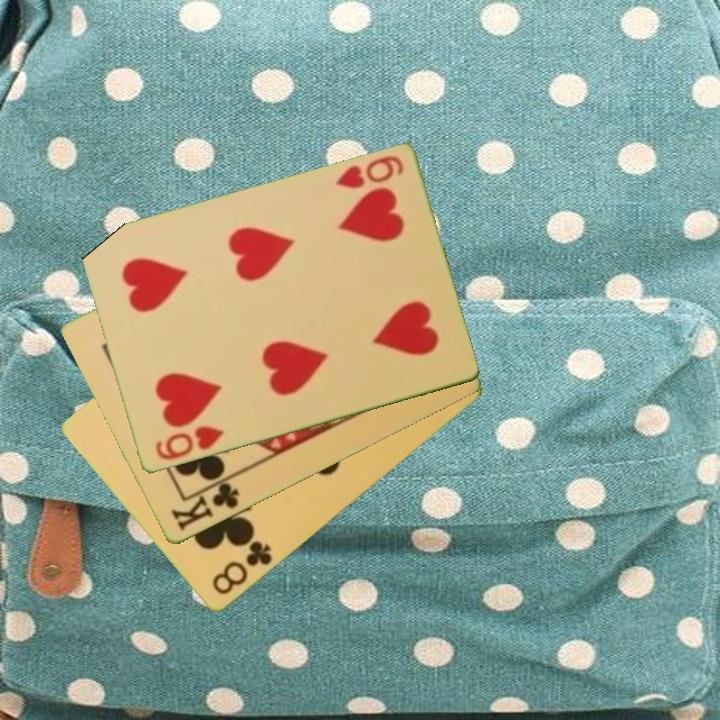6h: (151, 422, 227, 464), (331, 152, 406, 193)
8c: (208, 537, 275, 599)
Kc: (167, 472, 242, 534)
